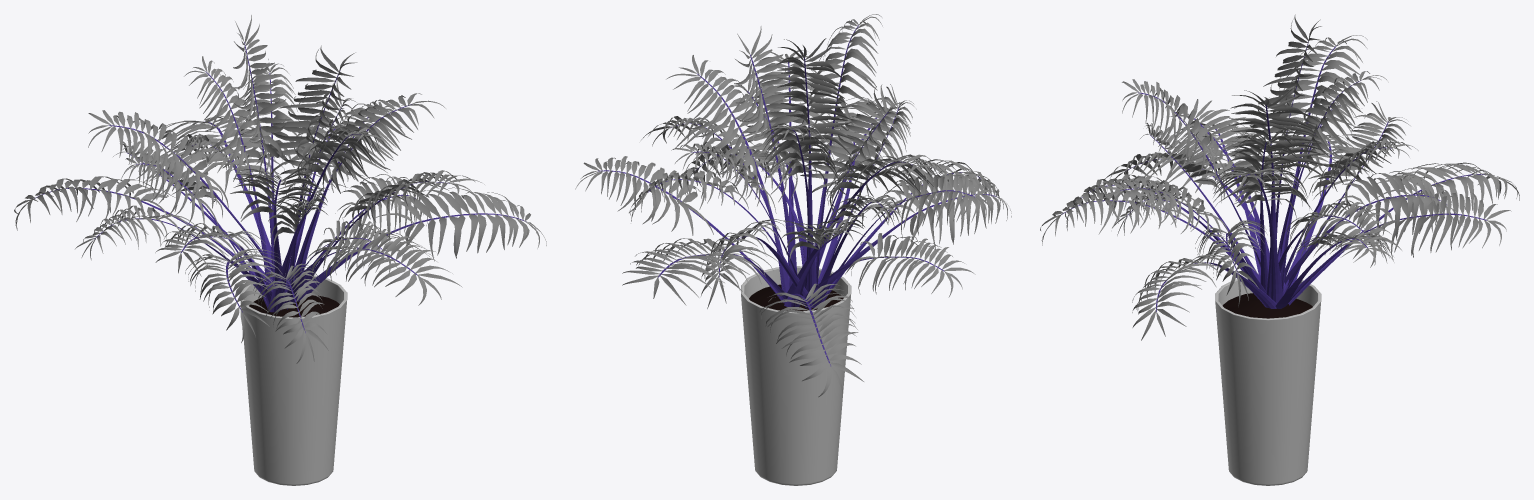
Rendered from Plant03.FBX.
3 renders of one model, left to right at view 1: azimuth 30°, elevation 25°; view 2: azimuth 150°, elevation 25°; view 3: azimuth 270°, elevation 25°, orthographic. The views are drawn at different scales.
Parts seen in each view (by area): view 1: Leavs, Pot, Trunk; view 2: Leavs, Pot, Trunk; view 3: Leavs, Pot, Trunk.
Boxes of the visible parts, x1,y1,x2,y2 form: Leavs: (14, 15, 546, 363); Pot: (240, 275, 347, 485); Trunk: (35, 42, 526, 332); Leavs: (575, 14, 1011, 397); Pot: (741, 266, 851, 485); Trunk: (598, 25, 996, 366); Leavs: (1040, 14, 1519, 340); Pot: (1215, 276, 1321, 485); Trunk: (1061, 41, 1486, 311).
Bounding box in the file's own units: 139 × 153 × 154.
